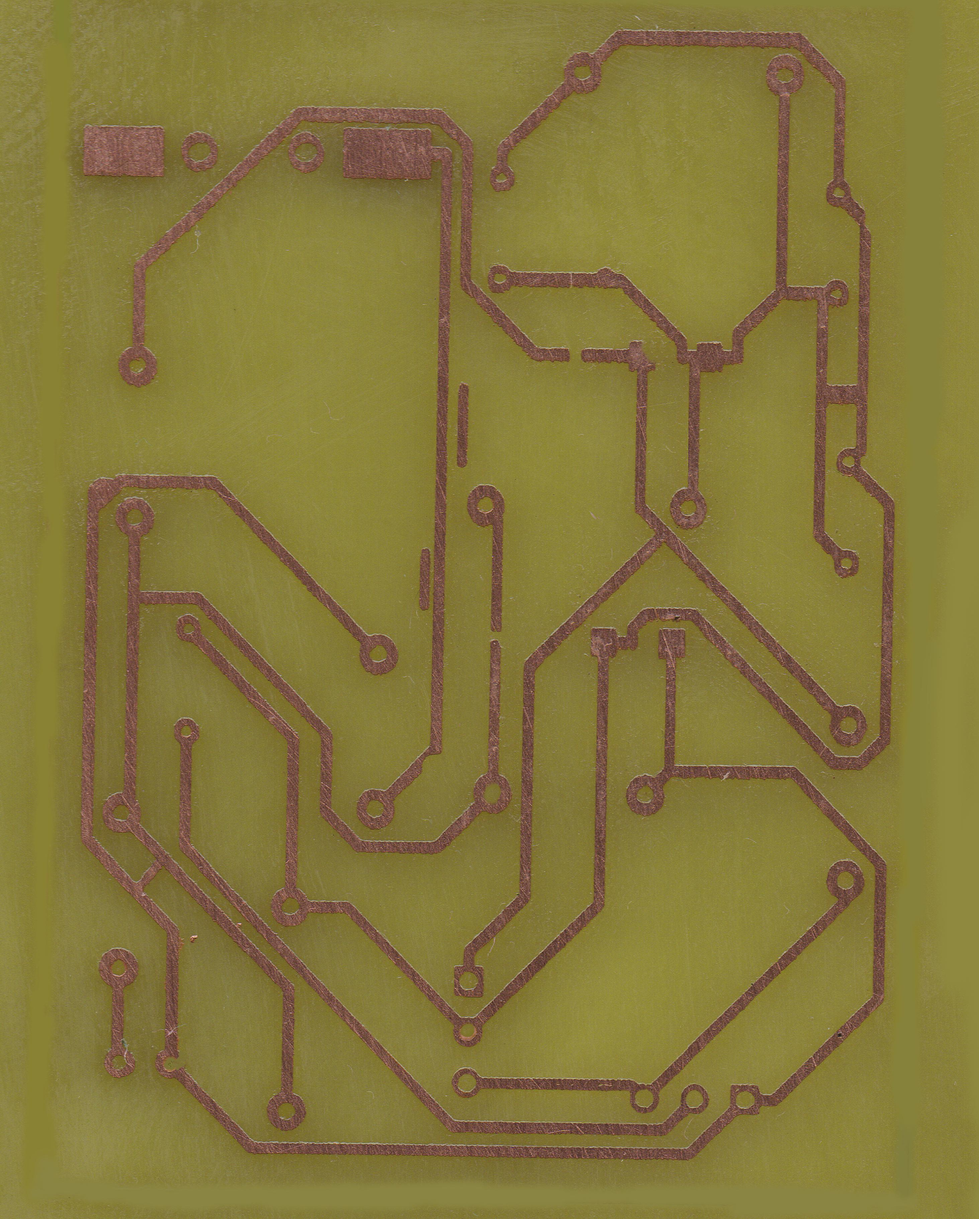missing_hole: (622, 336, 661, 379), (148, 1046, 186, 1083)
mouse_bite: (415, 739, 448, 775), (854, 209, 877, 242)
open_circuit: (484, 615, 505, 651), (561, 342, 590, 365)
short: (811, 373, 869, 414), (133, 854, 170, 896)
spur: (84, 474, 117, 510), (592, 264, 622, 288)
spurious_copper: (452, 381, 474, 472), (416, 544, 433, 613)
